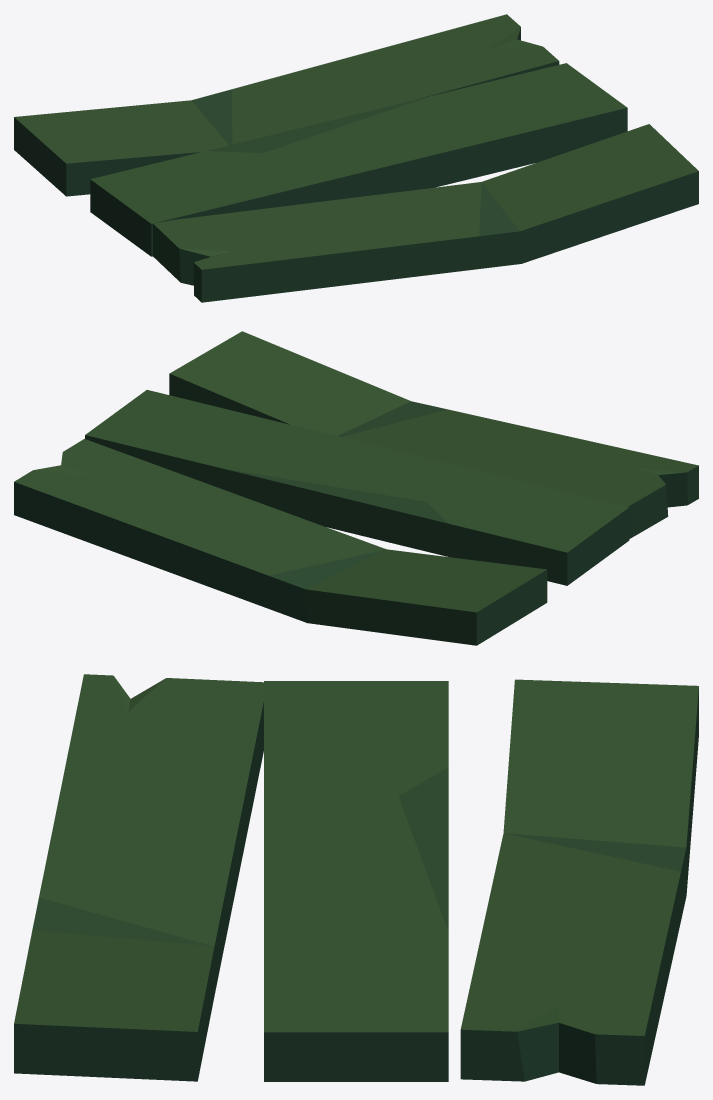
The model's file is floorTables01.fbx.
3 views of the same model, one above another, from view 1: azimuth 30°, elevation 25°; view 2: azimuth 150°, elevation 25°; view 3: azimuth 270°, elevation 25° (orthographic). The views are drawn at different scales.
Visible parts, largest first — view 1: Mesh_Tables01; view 2: Mesh_Tables01; view 3: Mesh_Tables01.
Boxes of the visible parts, <box> form: Mesh_Tables01: <box>14,14,698,302</box>; Mesh_Tables01: <box>14,331,698,645</box>; Mesh_Tables01: <box>14,674,698,1085</box>.
Bounding box in the file's own units: 2.59 × 2.07 × 0.2788.
